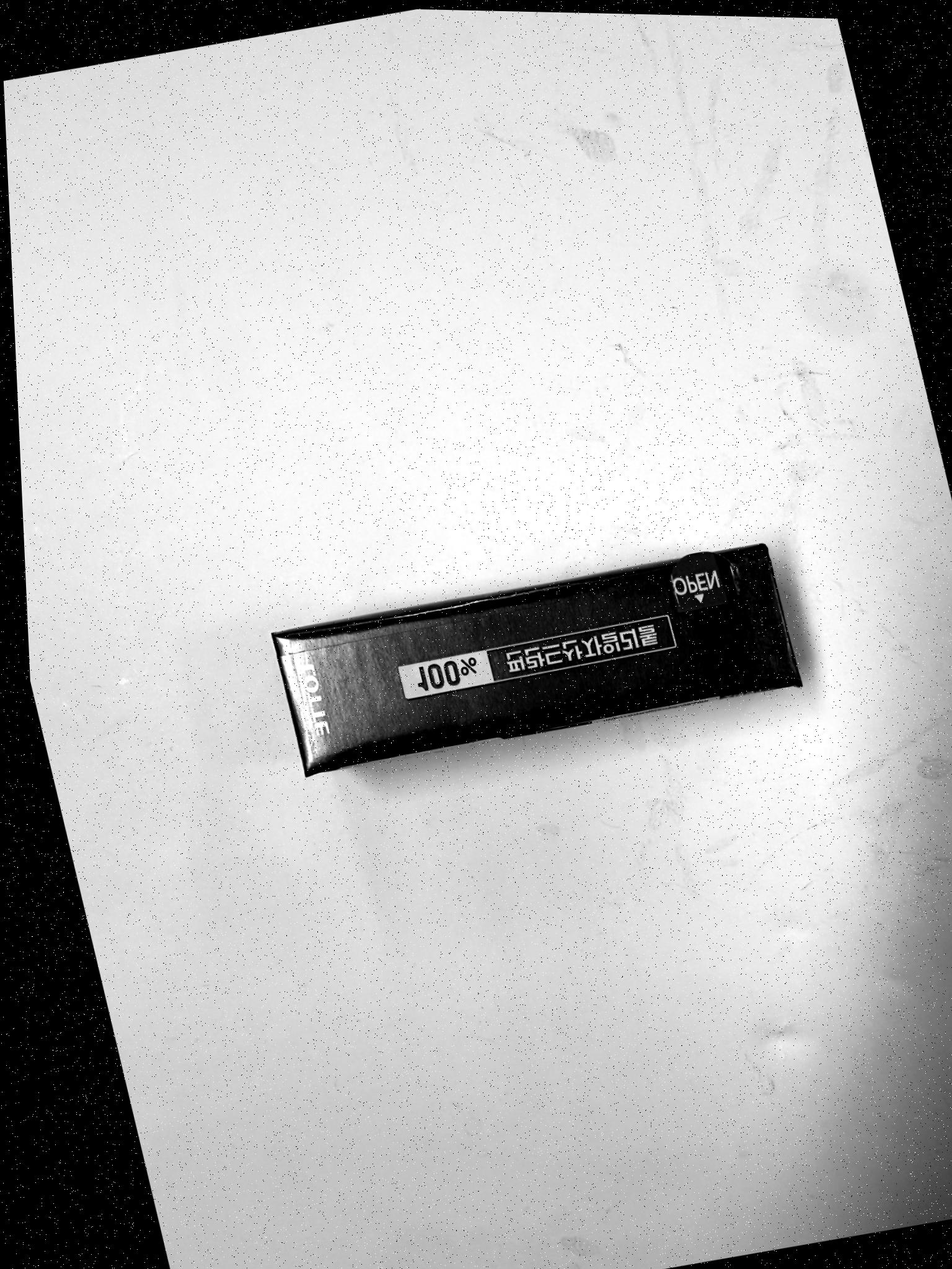gum_green: (272, 548, 800, 781)
